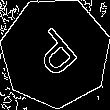P_SE: (26, 22, 85, 84)
